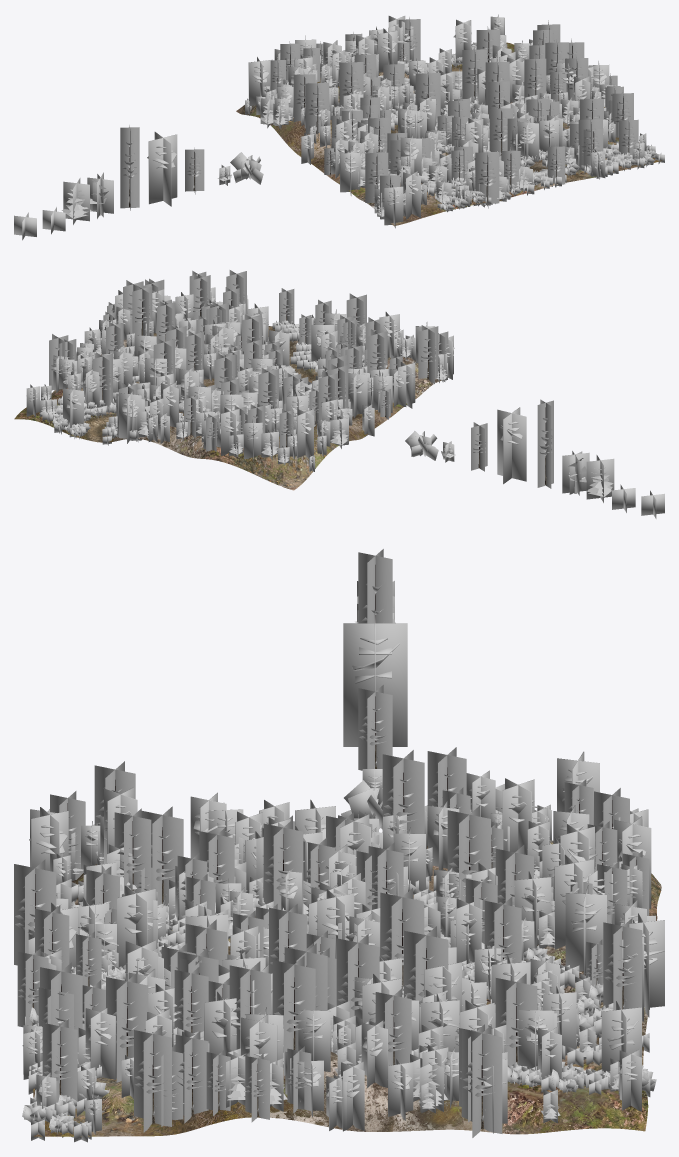
3 views of the same model, one above another, from view 1: azimuth 30°, elevation 25°; view 2: azimuth 150°, elevation 25°; view 3: azimuth 270°, elevation 25° (orthographic). The views are drawn at different scales.
Parts seen in each view (by area): view 1: 05ade0e713892be558511d706fa6c547-no-bg-preview (carve.photos (×19), Plane.002, Cylinder.001, Cylinder.034, Cylinder.007, Plane.005, Cylinder.058, Cylinder.049, Plane.006, Cylinder.004, Cylinder.026, Cylinder.019 (+31 smaller); view 2: 05ade0e713892be558511d706fa6c547-no-bg-preview (carve.photos (×23), Plane.002, Cylinder.001, Plane.005, Cylinder.004, Plane.006, Cylinder.073, Cylinder.070, Cylinder.012, Cylinder.019, Cylinder.026, Cylinder.071 (+22 smaller); view 3: 05ade0e713892be558511d706fa6c547-no-bg-preview (carve.photos (×38), Plane.002, Cylinder.085, Cylinder.078, Cylinder.055, Cylinder.007, Cylinder.077, Cylinder.026, Cylinder.034, Cylinder.020, Cylinder.071, Cylinder.019 (+41 smaller).
Boxes of the visible parts, left/top/right/bottom form: 05ade0e713892be558511d706fa6c547-no-bg-preview (carve.photos (×19): left=147, top=19, right=609, bottom=228; Plane.002: left=236, top=42, right=662, bottom=226; Cylinder.001: left=120, top=125, right=139, bottom=210; Cylinder.034: left=475, top=147, right=499, bottom=208; Cylinder.007: left=305, top=80, right=329, bottom=138; Plane.005: left=61, top=178, right=91, bottom=224; Cylinder.058: left=462, top=46, right=487, bottom=102; Cylinder.049: left=489, top=105, right=513, bottom=156; Plane.006: left=87, top=172, right=113, bottom=218; Cylinder.004: left=365, top=149, right=388, bottom=202; Cylinder.026: left=339, top=57, right=363, bottom=106; Cylinder.019: left=185, top=147, right=204, bottom=194; 05ade0e713892be558511d706fa6c547-no-bg-preview (carve.photos (×23): left=26, top=292, right=526, bottom=484; Plane.002: left=14, top=326, right=448, bottom=490; Cylinder.001: left=537, top=399, right=553, bottom=488; Plane.005: left=586, top=455, right=614, bottom=502; Cylinder.004: left=418, top=325, right=438, bottom=383; Plane.006: left=562, top=451, right=589, bottom=495; Cylinder.073: left=132, top=284, right=152, bottom=335; Cylinder.070: left=92, top=352, right=112, bottom=412; Cylinder.012: left=367, top=330, right=387, bottom=372; Cylinder.019: left=471, top=422, right=487, bottom=471; Cylinder.026: left=258, top=368, right=278, bottom=408; Cylinder.071: left=190, top=274, right=210, bottom=319; 05ade0e713892be558511d706fa6c547-no-bg-preview (carve.photos (×38): left=29, top=609, right=664, bottom=1131; Plane.002: left=33, top=840, right=661, bottom=1136; Cylinder.085: left=461, top=1025, right=502, bottom=1137; Cylinder.078: left=134, top=1026, right=171, bottom=1132; Cylinder.055: left=603, top=918, right=642, bottom=1022; Cylinder.007: left=382, top=750, right=424, bottom=842; Cylinder.077: left=272, top=956, right=315, bottom=1075; Cylinder.026: left=447, top=805, right=490, bottom=901; Cylinder.034: left=14, top=859, right=56, bottom=965; Cylinder.020: left=263, top=819, right=303, bottom=914; Cylinder.071: left=106, top=972, right=148, bottom=1082; Cylinder.019: left=358, top=685, right=392, bottom=770.
Bounding box in the file's own units: 19.24 × 2.85 × 9.74.
